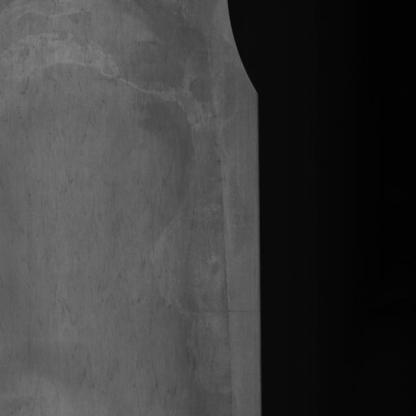crescent_gap: (223, 0, 270, 105)
